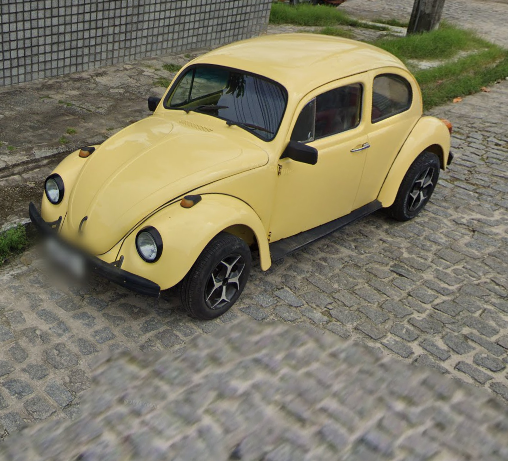car: (28, 29, 458, 325)
